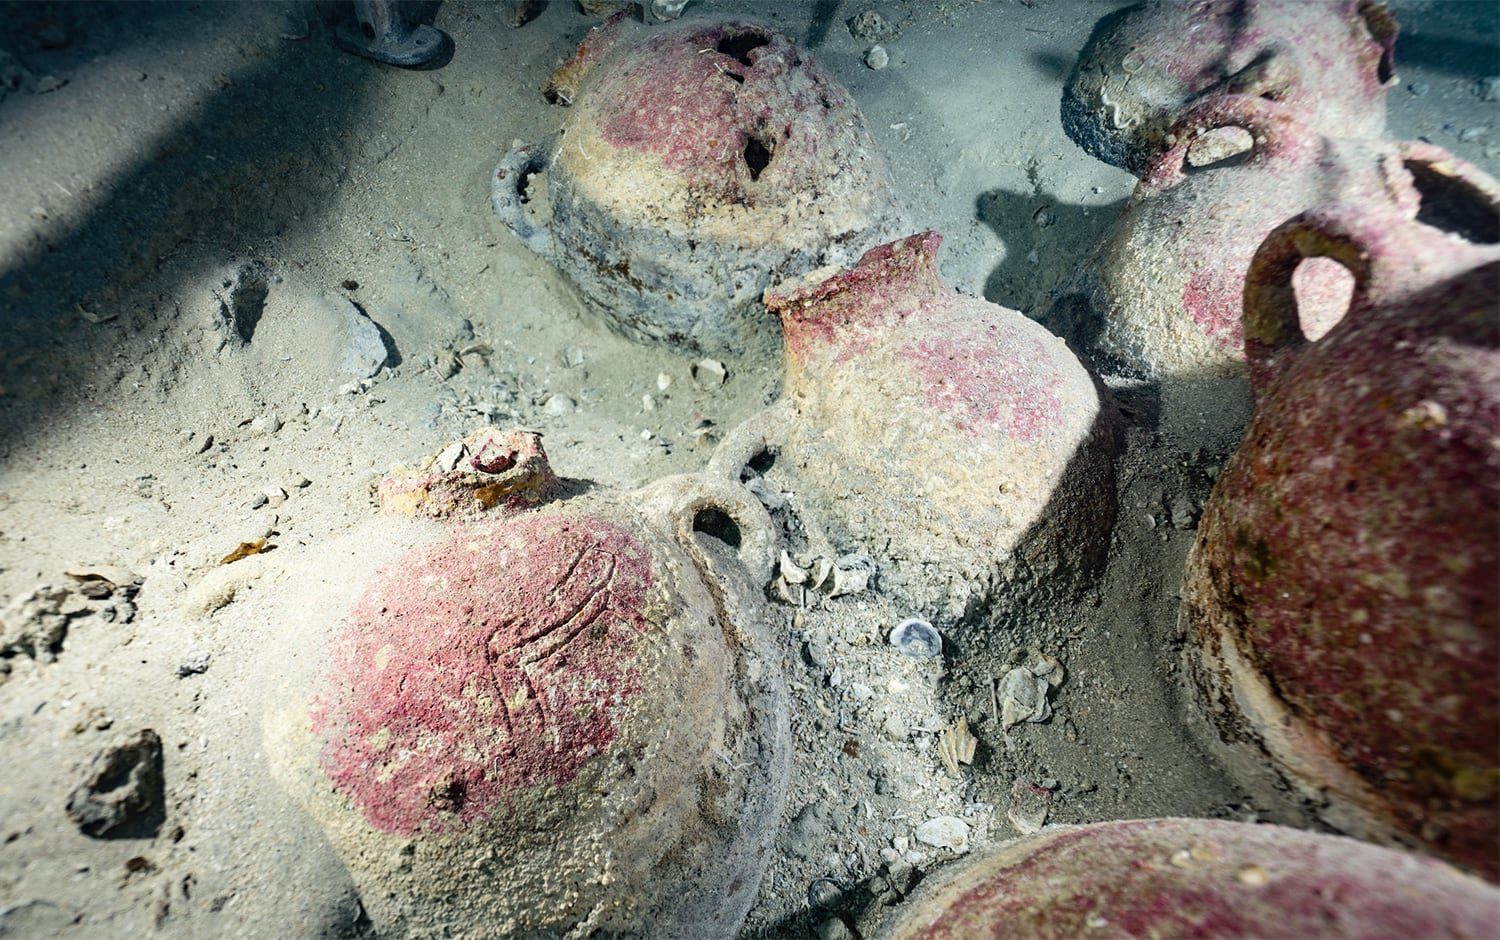amphora: (260, 425, 784, 940), (1183, 206, 1500, 839), (705, 234, 1110, 628), (491, 13, 945, 340), (1099, 97, 1500, 397), (1064, 1, 1408, 180)
